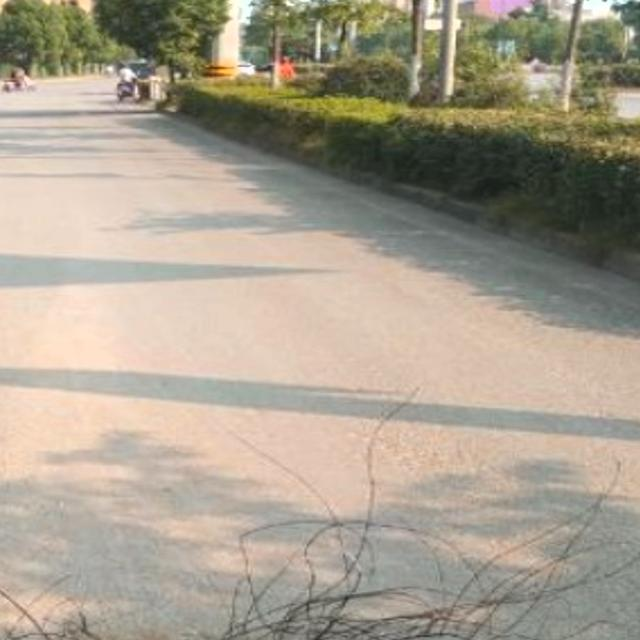broke: (0, 635, 347, 640)
